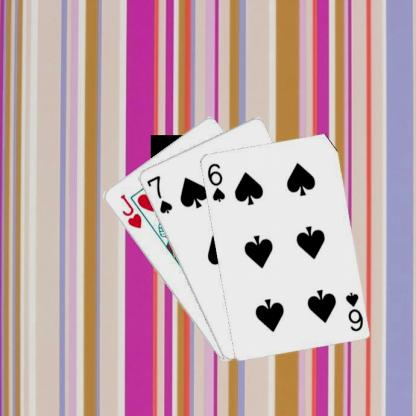6S: (204, 160, 226, 204), (343, 290, 364, 332)
7S: (144, 173, 173, 215)
JH: (117, 191, 143, 230)
